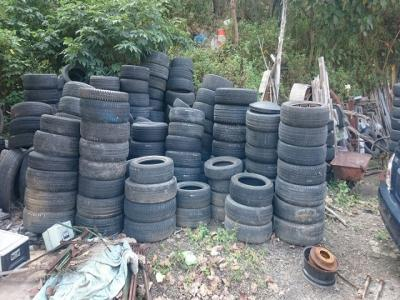bowl: (301, 244, 339, 287)
plastic_bag: (56, 243, 125, 300)
tire: (227, 168, 276, 211), (225, 195, 275, 228), (77, 97, 131, 127), (1, 146, 25, 212), (126, 156, 178, 186), (124, 175, 178, 203), (280, 97, 327, 129), (123, 196, 175, 224), (123, 215, 175, 243), (225, 217, 275, 245), (79, 117, 131, 143), (78, 137, 130, 163), (25, 167, 78, 192), (24, 187, 77, 212), (279, 139, 328, 166), (278, 158, 327, 185), (277, 178, 326, 205), (276, 198, 325, 225), (275, 218, 324, 245), (199, 154, 247, 181), (34, 129, 80, 157), (77, 157, 126, 181), (175, 177, 211, 209), (280, 122, 328, 146), (130, 120, 169, 147), (77, 176, 124, 198), (76, 196, 123, 218), (27, 149, 76, 170), (38, 114, 80, 138), (214, 85, 257, 105), (9, 100, 56, 117), (81, 86, 129, 102), (165, 133, 204, 152), (174, 206, 213, 225), (166, 142, 205, 161), (166, 121, 205, 139), (22, 72, 58, 91), (169, 107, 205, 124), (141, 49, 171, 68), (119, 64, 151, 80), (89, 75, 121, 91), (167, 78, 197, 95), (24, 88, 60, 101), (121, 77, 151, 91), (169, 65, 193, 79)
